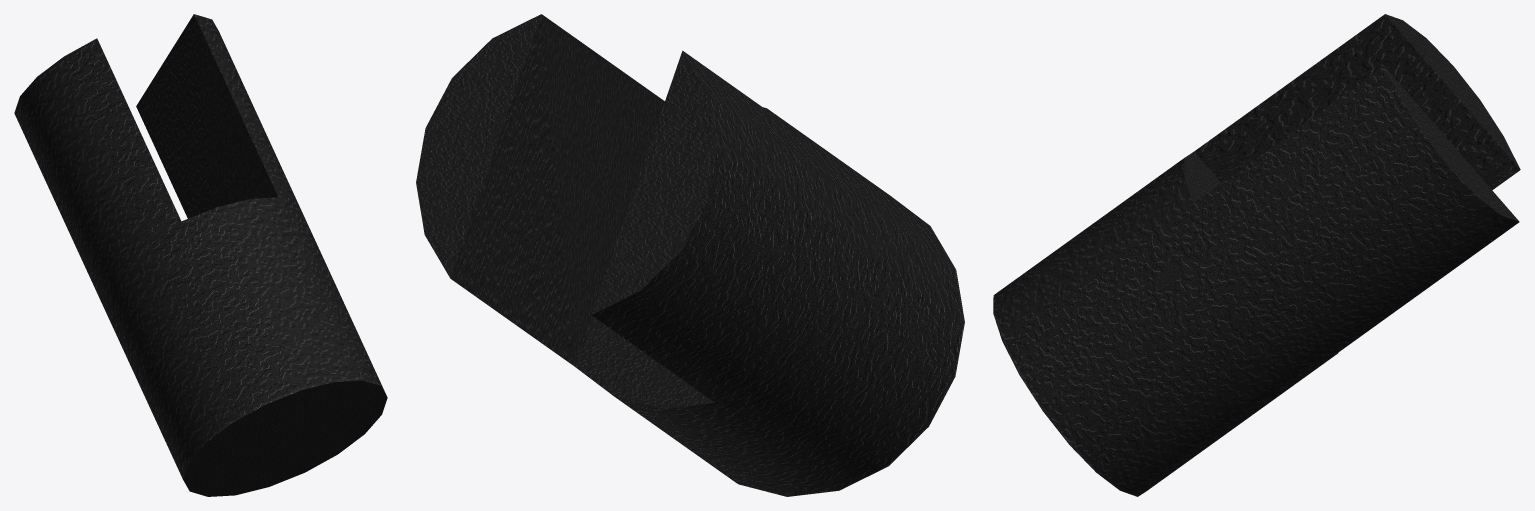
Rendered from ra_cilinder.obj.
3 renders of one model, left to right at view 1: azimuth 30°, elevation 25°; view 2: azimuth 150°, elevation 25°; view 3: azimuth 270°, elevation 25°, orthographic. The views are drawn at different scales.
Visible parts, largest first — view 1: cilinder; view 2: cilinder; view 3: cilinder.
Boxes of the visible parts, x1,y1,x2,y2 form: cilinder: [14, 14, 387, 496]; cilinder: [416, 14, 964, 496]; cilinder: [993, 14, 1520, 496].
Bounding box in the file's own units: 11.25 × 21.75 × 23.57.
Materials: 1 (1 with a texture image).
